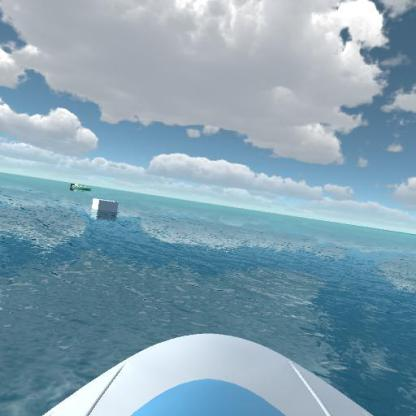usv0: (68, 178, 95, 195)
